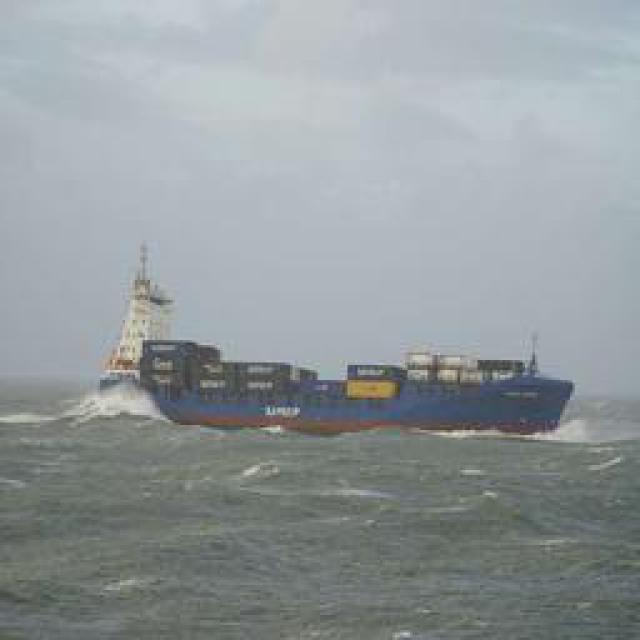Ship: (146, 346, 571, 439)
